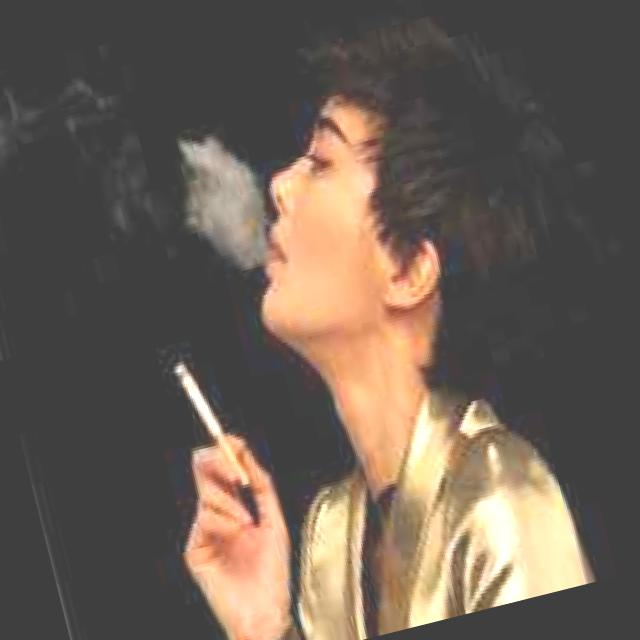smoke: (172, 353, 232, 440)
